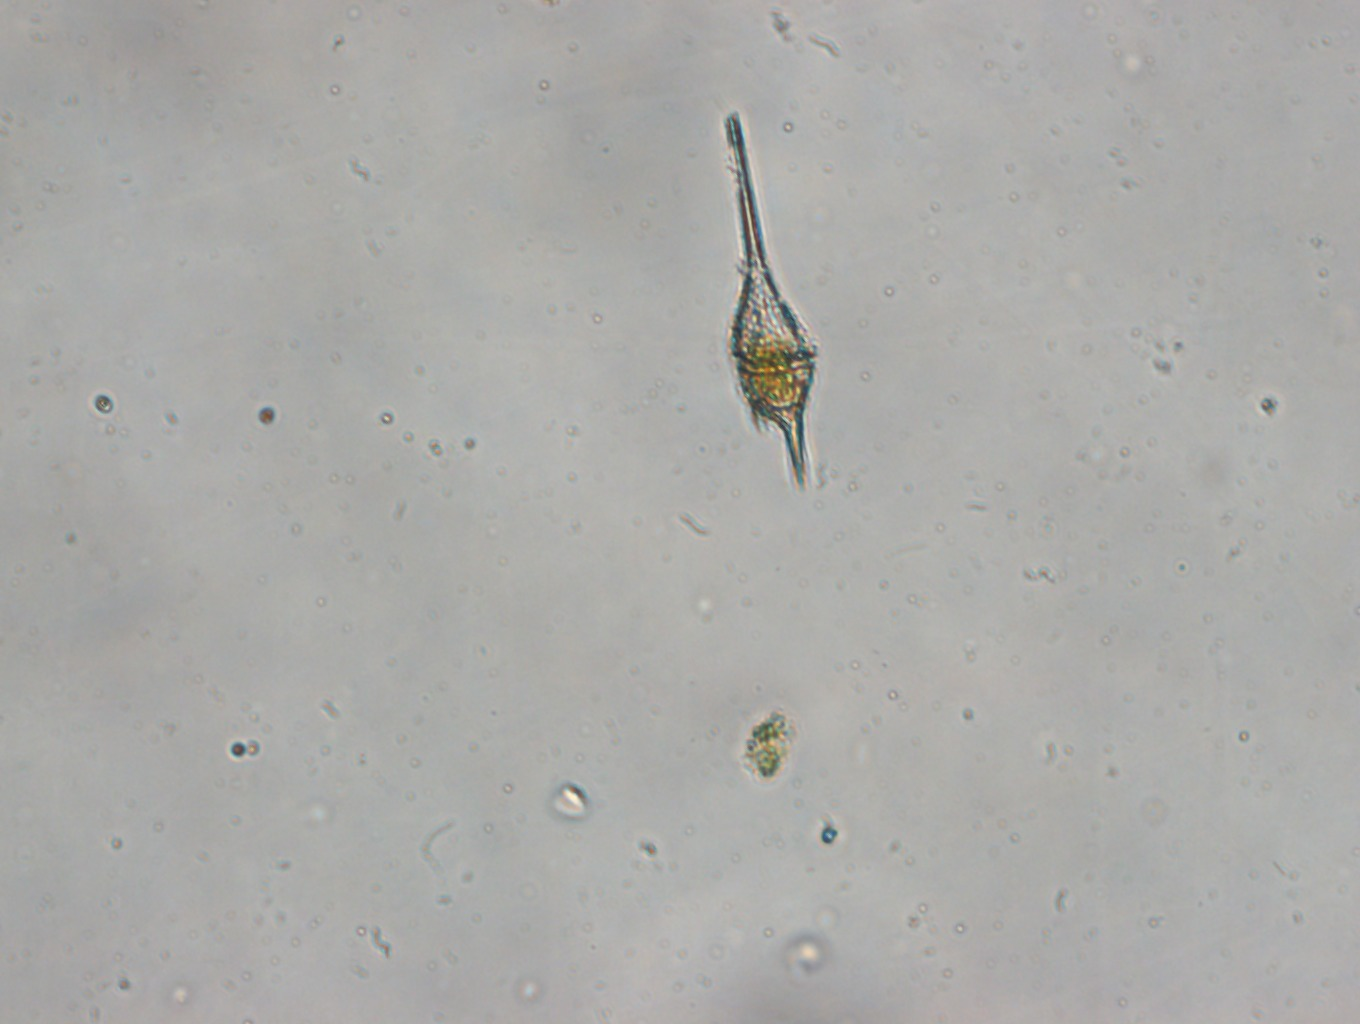ceratium furca: (711, 103, 835, 499)
